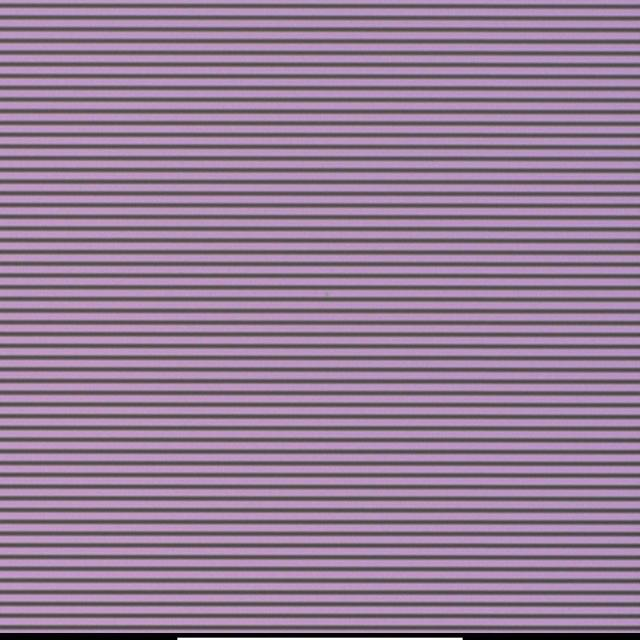nonvisual: (320, 290, 333, 303)
